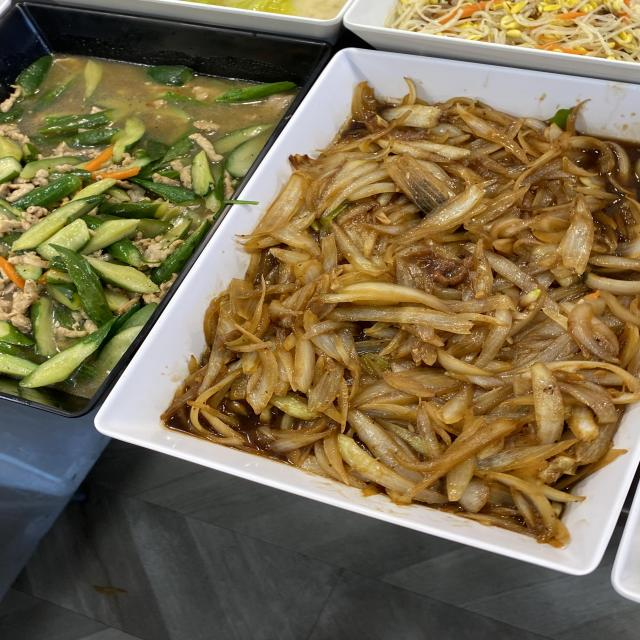Fried onions: (291, 158, 588, 471)
